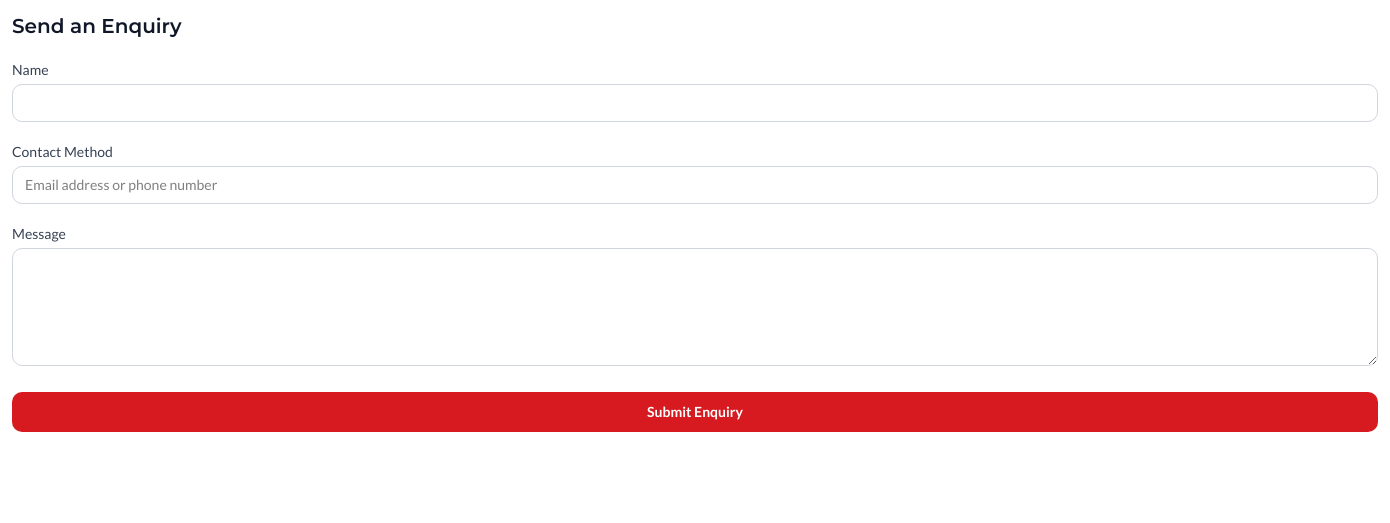
Test: EnquiryForm › should show error message on submission failure
Type "John Doe" into the field labelled "Name" at (695, 103), box [12,84,1378,122]
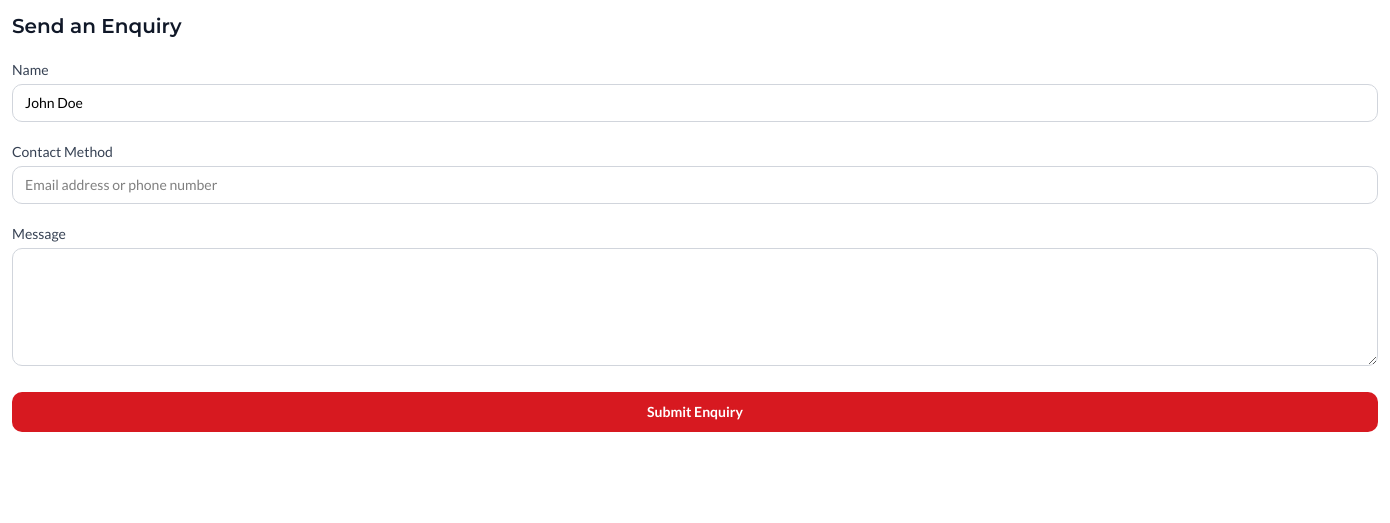
Type "john@example.com" into the field labelled "Contact Method" at (695, 185), box [12,166,1378,204]
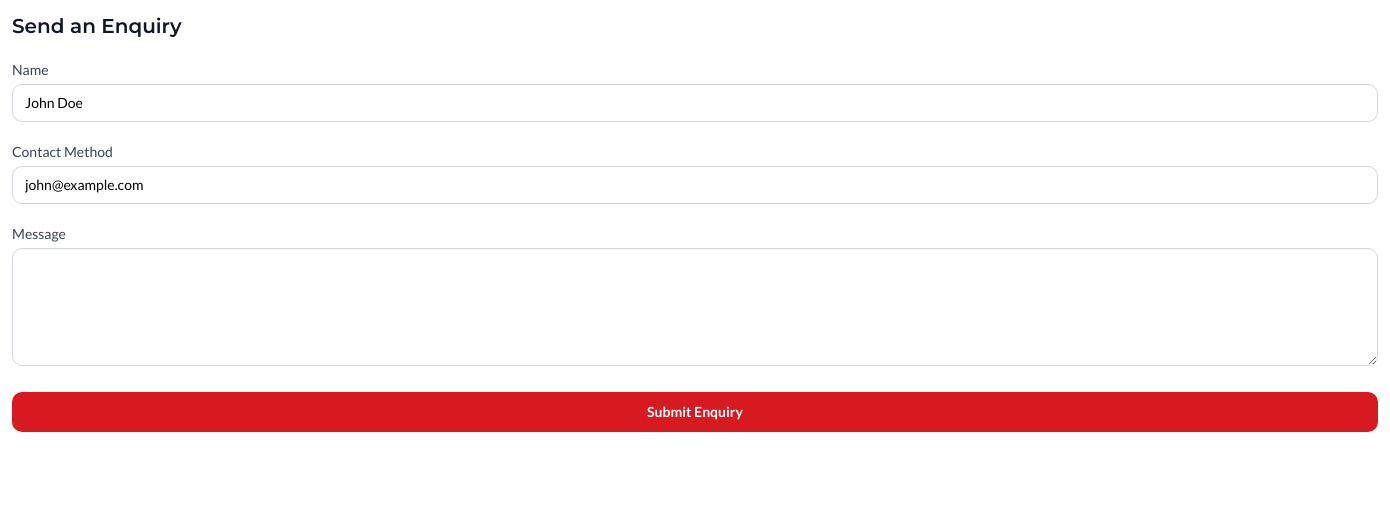
Type "I need security services" into the text box labelled "Message" at (695, 307), box [12,248,1378,366]
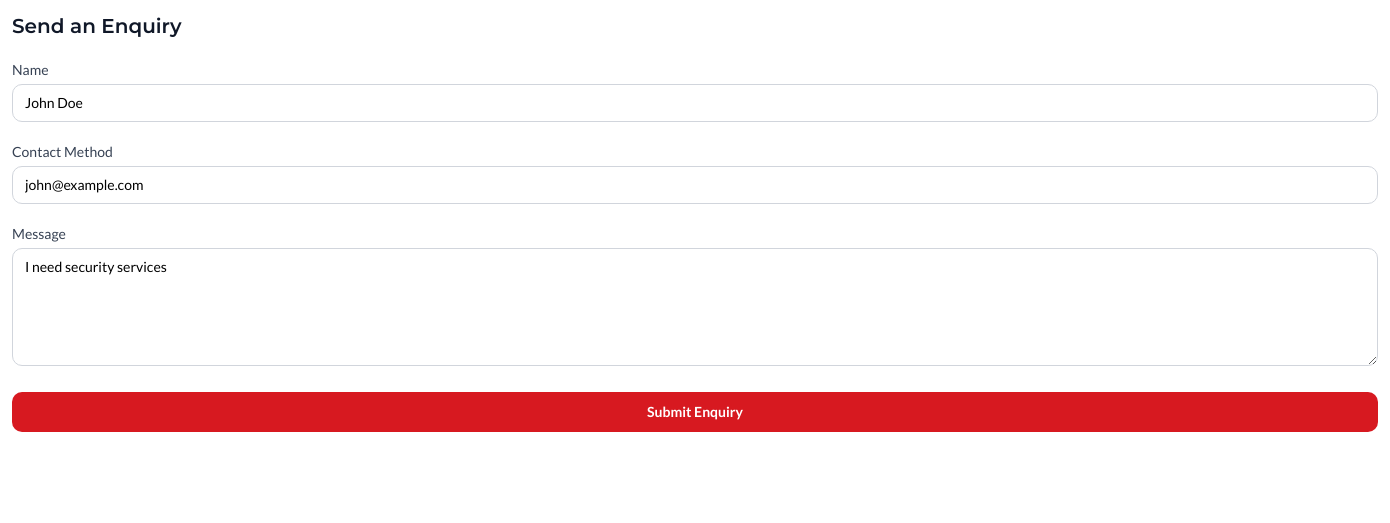
Click the button "Submit Enquiry" at (695, 412), box [12,392,1378,432]
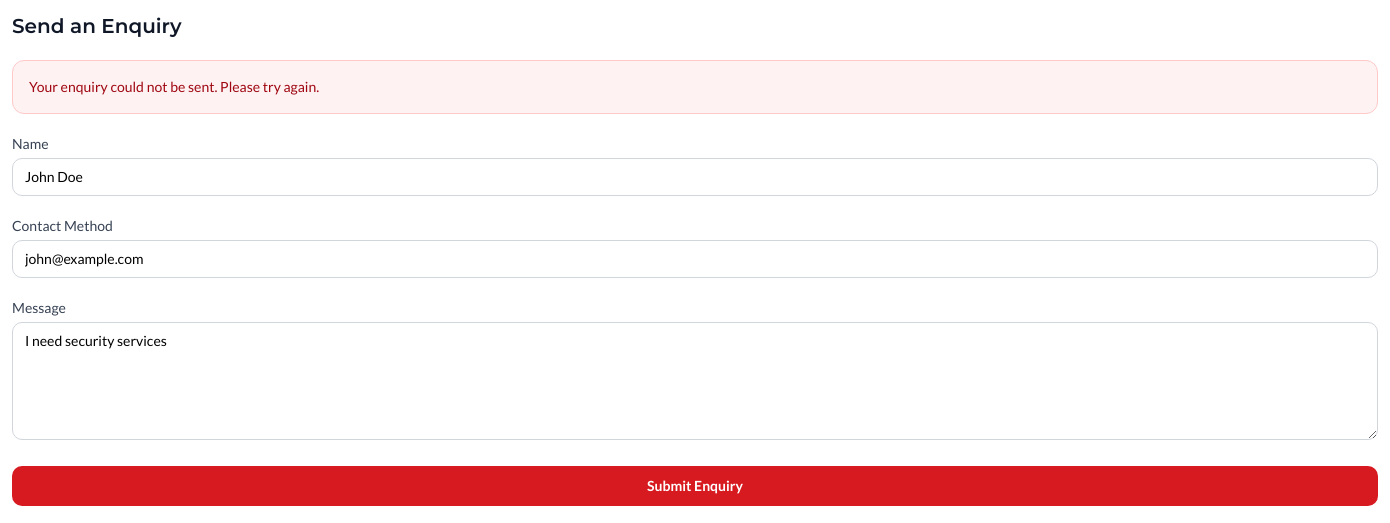
Expected: the text "Your enquiry could not be sent. Please try again." is shown, [29,78,319,95]
